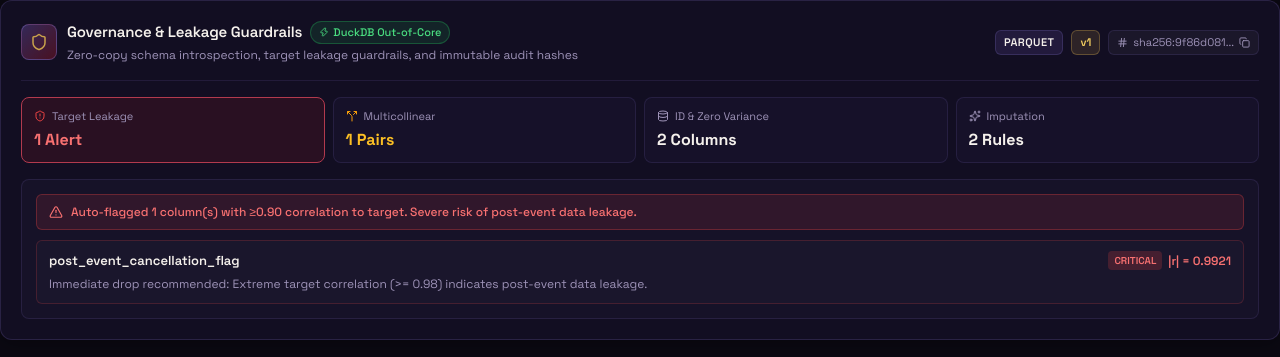
Scenario: Dataset Governance & Data Quality Guardrails › switches to multicollinearity tab and displays redundant feature pairs
# Click Multicollinear tab
Click the text "Multicollinear".
click(399, 116)  # box [364,108,435,124]
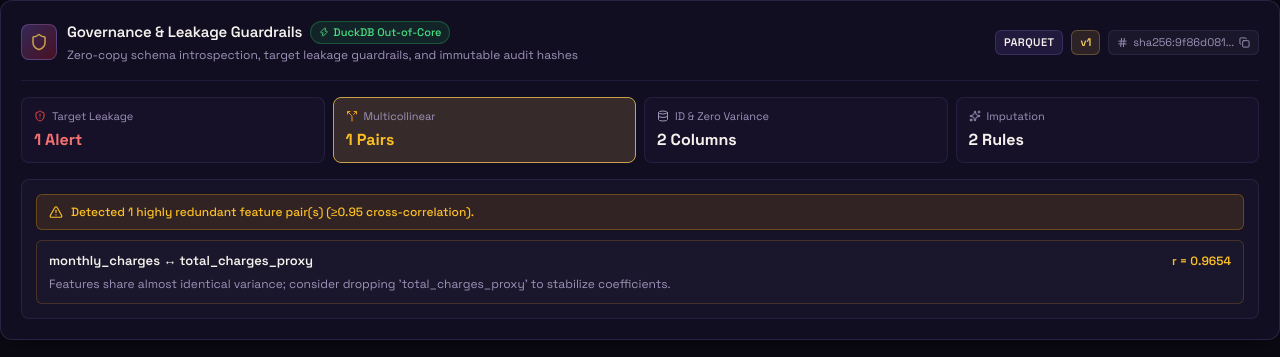
Expected: the text "monthly_charges ↔ total_charges_proxy" is shown, [49,251,313,270]
Expected: the text "r = 0.9654" is shown, [1172,252,1231,270]
